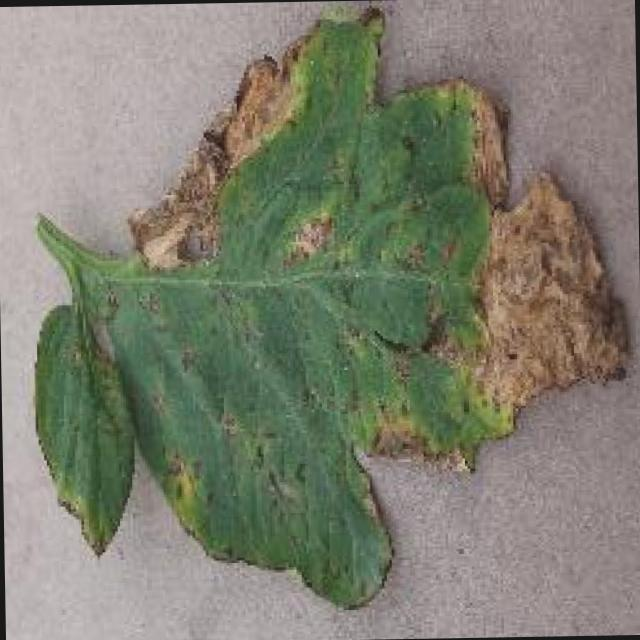bacterial spot: (38, 3, 632, 612)
